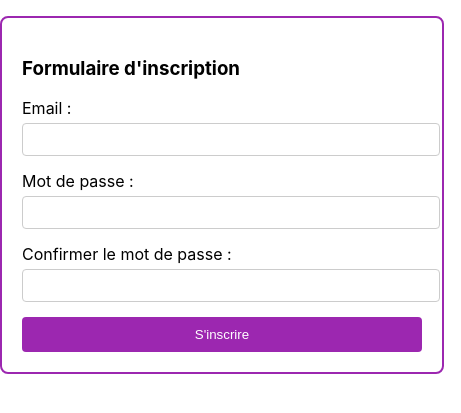
Test: affiche une erreur quand les mots de passe ne correspondent pas
In the field labelled "Email :": (231, 140) [22, 123, 440, 156], type "test@test.com"
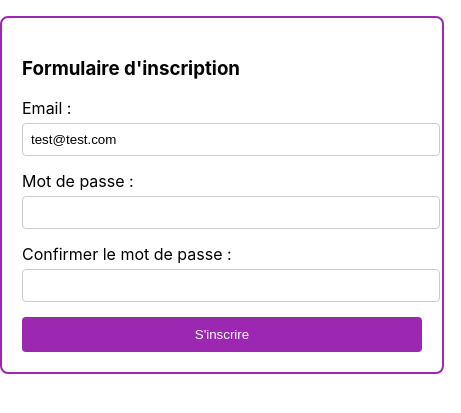
In the password field labelled "Mot de passe :": (231, 213) [22, 196, 440, 229], type "123456"
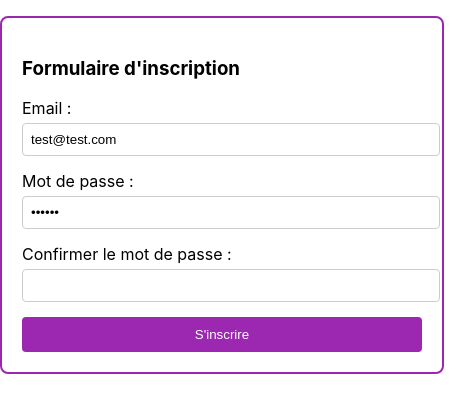
In the password field labelled "Confirmer le mot de passe :": (231, 286) [22, 269, 440, 302], type "654321"
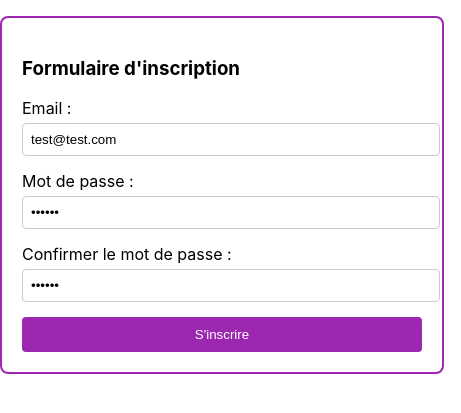
Click the button "S'inscrire": (222, 335) [22, 317, 422, 352]
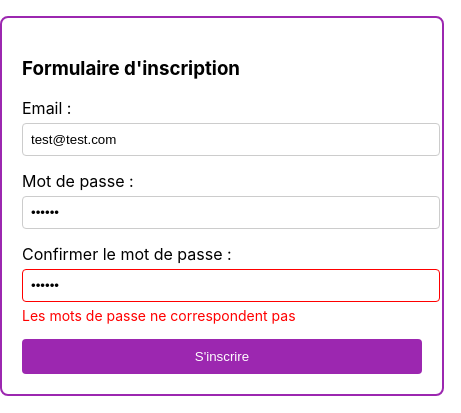
Check: the text "Les mots de passe ne correspondent pas" is shown, box [22, 307, 296, 324]
